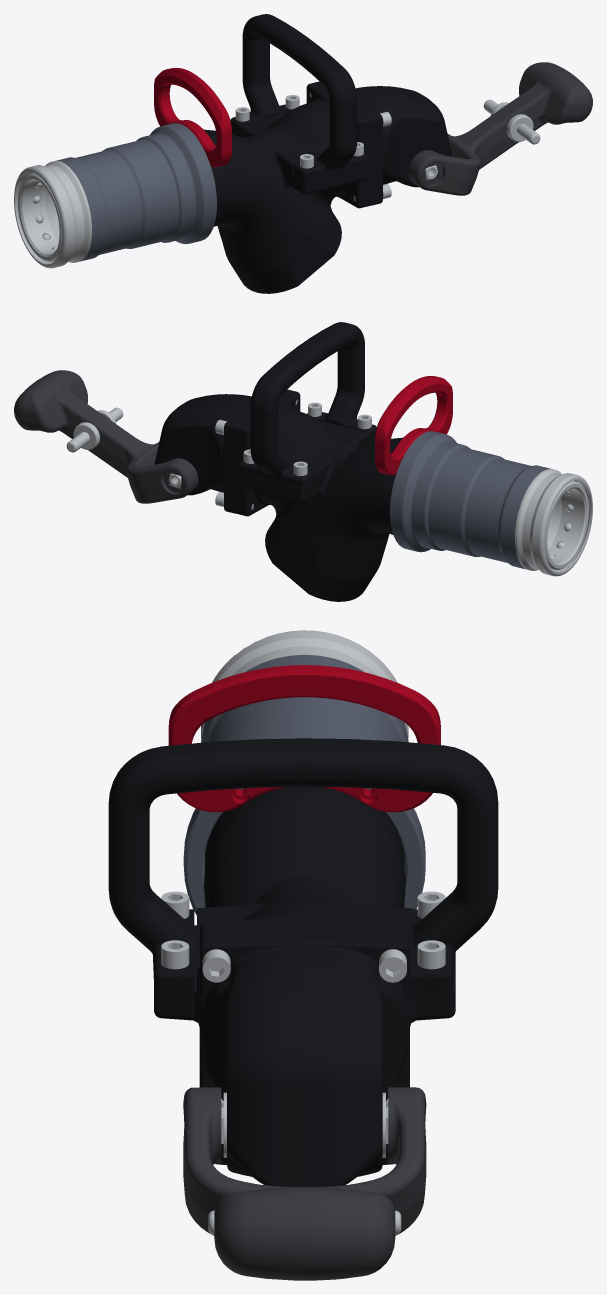
Rendered from atlas-n800-v2.glb.
3 views of the same model, one above another, from view 1: azimuth 30°, elevation 25°; view 2: azimuth 150°, elevation 25°; view 3: azimuth 270°, elevation 25° (orthographic). The views are drawn at different scales.
Visible parts, largest first — view 1: fnt-ca-2HV_fnt-cahtm-2, fnt-m-20a_fnt-m-20a, fnt-ca-3, fnt-cam-5_fn-cam-5, fnt-ca-4_fnt-cahtm-4 v2, fnt-m-20b_fnt-m-20b, fnt-m-20c, fnt-m-1bcHV, fn-m-20; view 2: fnt-ca-2HV_fnt-cahtm-2, fnt-m-20a_fnt-m-20a, fnt-ca-3, fnt-cam-5_fn-cam-5, fnt-ca-4_fnt-cahtm-4 v2, fnt-m-20b_fnt-m-20b, fnt-m-20c, fnt-m-1bcHV, fn-m-001; view 3: fnt-ca-4_fnt-cahtm-4 v2, fnt-ca-3, fnt-ca-2HV_fnt-cahtm-2, fnt-cam-5_fn-cam-5, fnt-m-20c, fnt-m-20a_fnt-m-20a, fnt-m-20b_fnt-m-20b.
Part boxes in pixels (<box>): fnt-ca-2HV_fnt-cahtm-2: <box>204,81,372,293</box>; fnt-m-20a_fnt-m-20a: <box>55,123,216,261</box>; fnt-ca-3: <box>230,14,369,180</box>; fnt-cam-5_fn-cam-5: <box>408,62,592,195</box>; fnt-ca-4_fnt-cahtm-4 v2: <box>355,86,452,205</box>; fnt-m-20b_fnt-m-20b: <box>14,161,91,268</box>; fnt-m-20c: <box>154,68,231,167</box>; fnt-m-1bcHV: <box>18,173,62,261</box>; fn-m-20: <box>507,114,540,144</box>; fnt-ca-2HV_fnt-cahtm-2: <box>234,389,402,601</box>; fnt-m-20a_fnt-m-20a: <box>390,431,550,569</box>; fnt-ca-3: <box>238,322,376,488</box>; fnt-cam-5_fn-cam-5: <box>14,370,198,503</box>; fnt-ca-4_fnt-cahtm-4 v2: <box>154,394,251,513</box>; fnt-m-20b_fnt-m-20b: <box>515,469,592,576</box>; fnt-m-20c: <box>375,376,452,475</box>; fnt-m-1bcHV: <box>544,481,588,569</box>; fn-m-001: <box>66,422,99,452</box>; fnt-ca-4_fnt-cahtm-4 v2: <box>199,929,409,1186</box>; fnt-ca-3: <box>108,738,498,991</box>; fnt-ca-2HV_fnt-cahtm-2: <box>154,786,455,1164</box>; fnt-cam-5_fn-cam-5: <box>183,1087,426,1280</box>; fnt-m-20c: <box>168,665,440,812</box>; fnt-m-20a_fnt-m-20a: <box>183,654,425,915</box>; fnt-m-20b_fnt-m-20b: <box>201,630,408,742</box>.
Bounding box in the file's own units: 0.4191 × 0.1759 × 0.1308.
